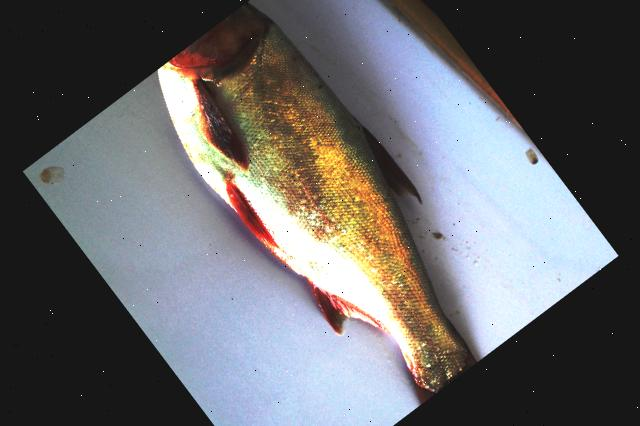Healthy Fish: (157, 2, 476, 404)
